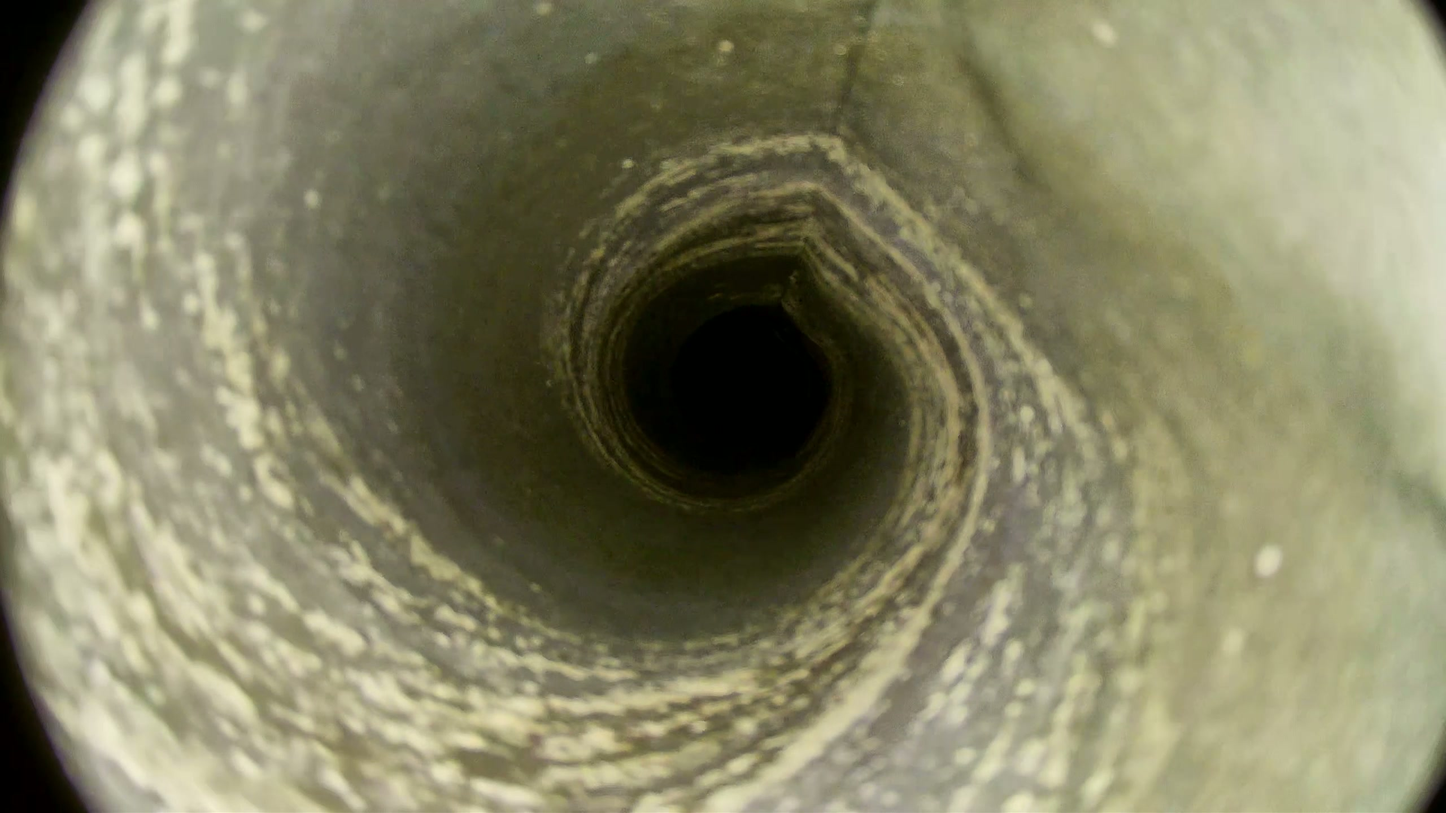hole: (673, 307, 829, 458)
